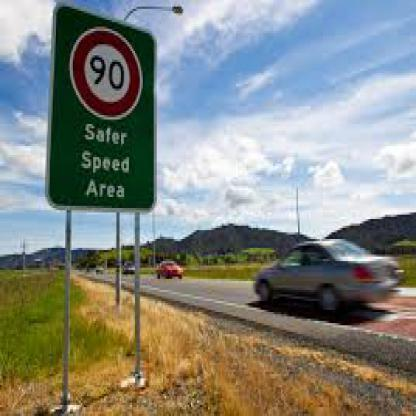Speed Limit -90-: (14, 9, 184, 130)
